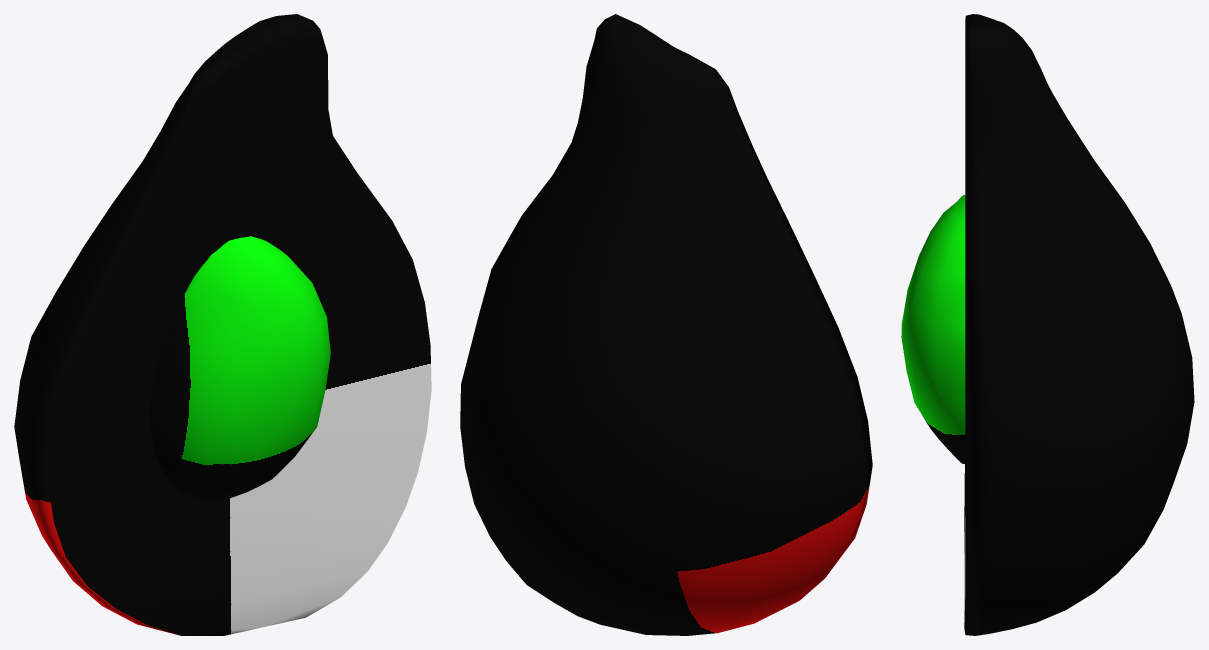
File: avocado_draco.glb
The picture shows the model from 3 angles, left to right: view 1: azimuth 30°, elevation 25°; view 2: azimuth 150°, elevation 25°; view 3: azimuth 270°, elevation 25°; orthographic projection. The views are drawn at different scales.
Parts seen in each view (by area): view 1: Avocado; view 2: Avocado; view 3: Avocado.
Part boxes in pixels (x1,y1,x2,y2): Avocado: (14,14,431,635); Avocado: (460,14,872,635); Avocado: (901,14,1194,635).
Bounding box in the file's own units: 0.0426 × 0.0629 × 0.0276.
Materials: 1 (1 with a texture image).
